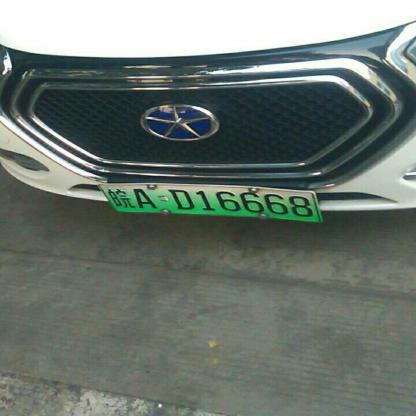lp: (98, 185, 320, 221)
